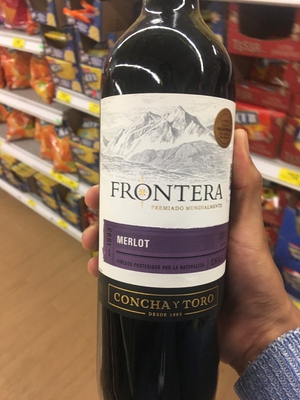frontera merlot: (92, 11, 252, 400)
